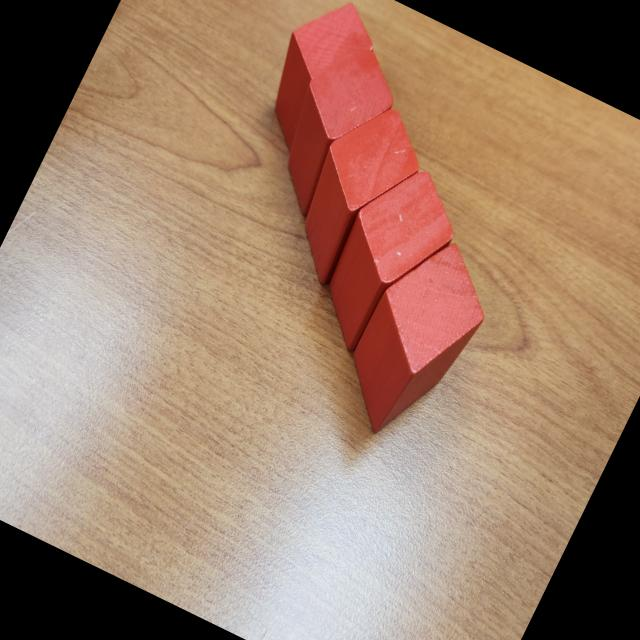red: (352, 243, 484, 433), (327, 170, 454, 354), (302, 108, 418, 284), (286, 50, 394, 217), (273, 2, 373, 152)
